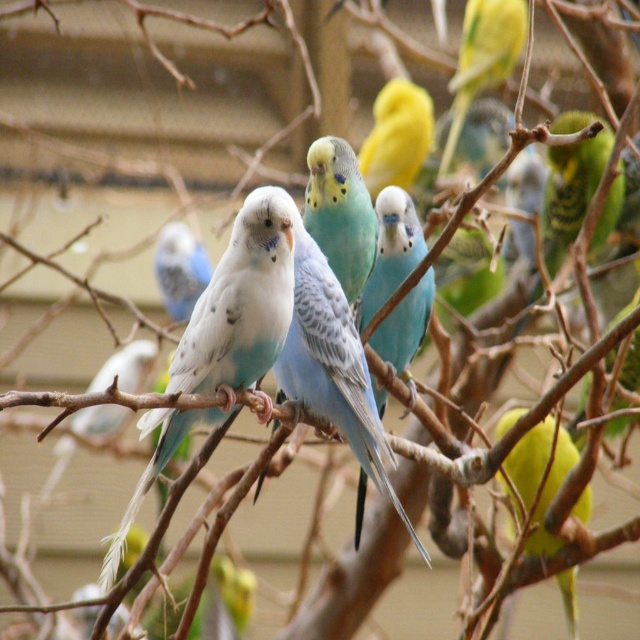Parrot: (96, 186, 272, 585), (286, 199, 423, 569), (499, 389, 588, 632), (352, 179, 433, 410), (453, 101, 550, 289), (45, 335, 148, 498), (444, 0, 530, 182), (434, 194, 503, 417), (297, 127, 378, 308), (547, 106, 607, 293), (361, 63, 435, 193), (555, 256, 630, 375), (158, 205, 214, 316)
